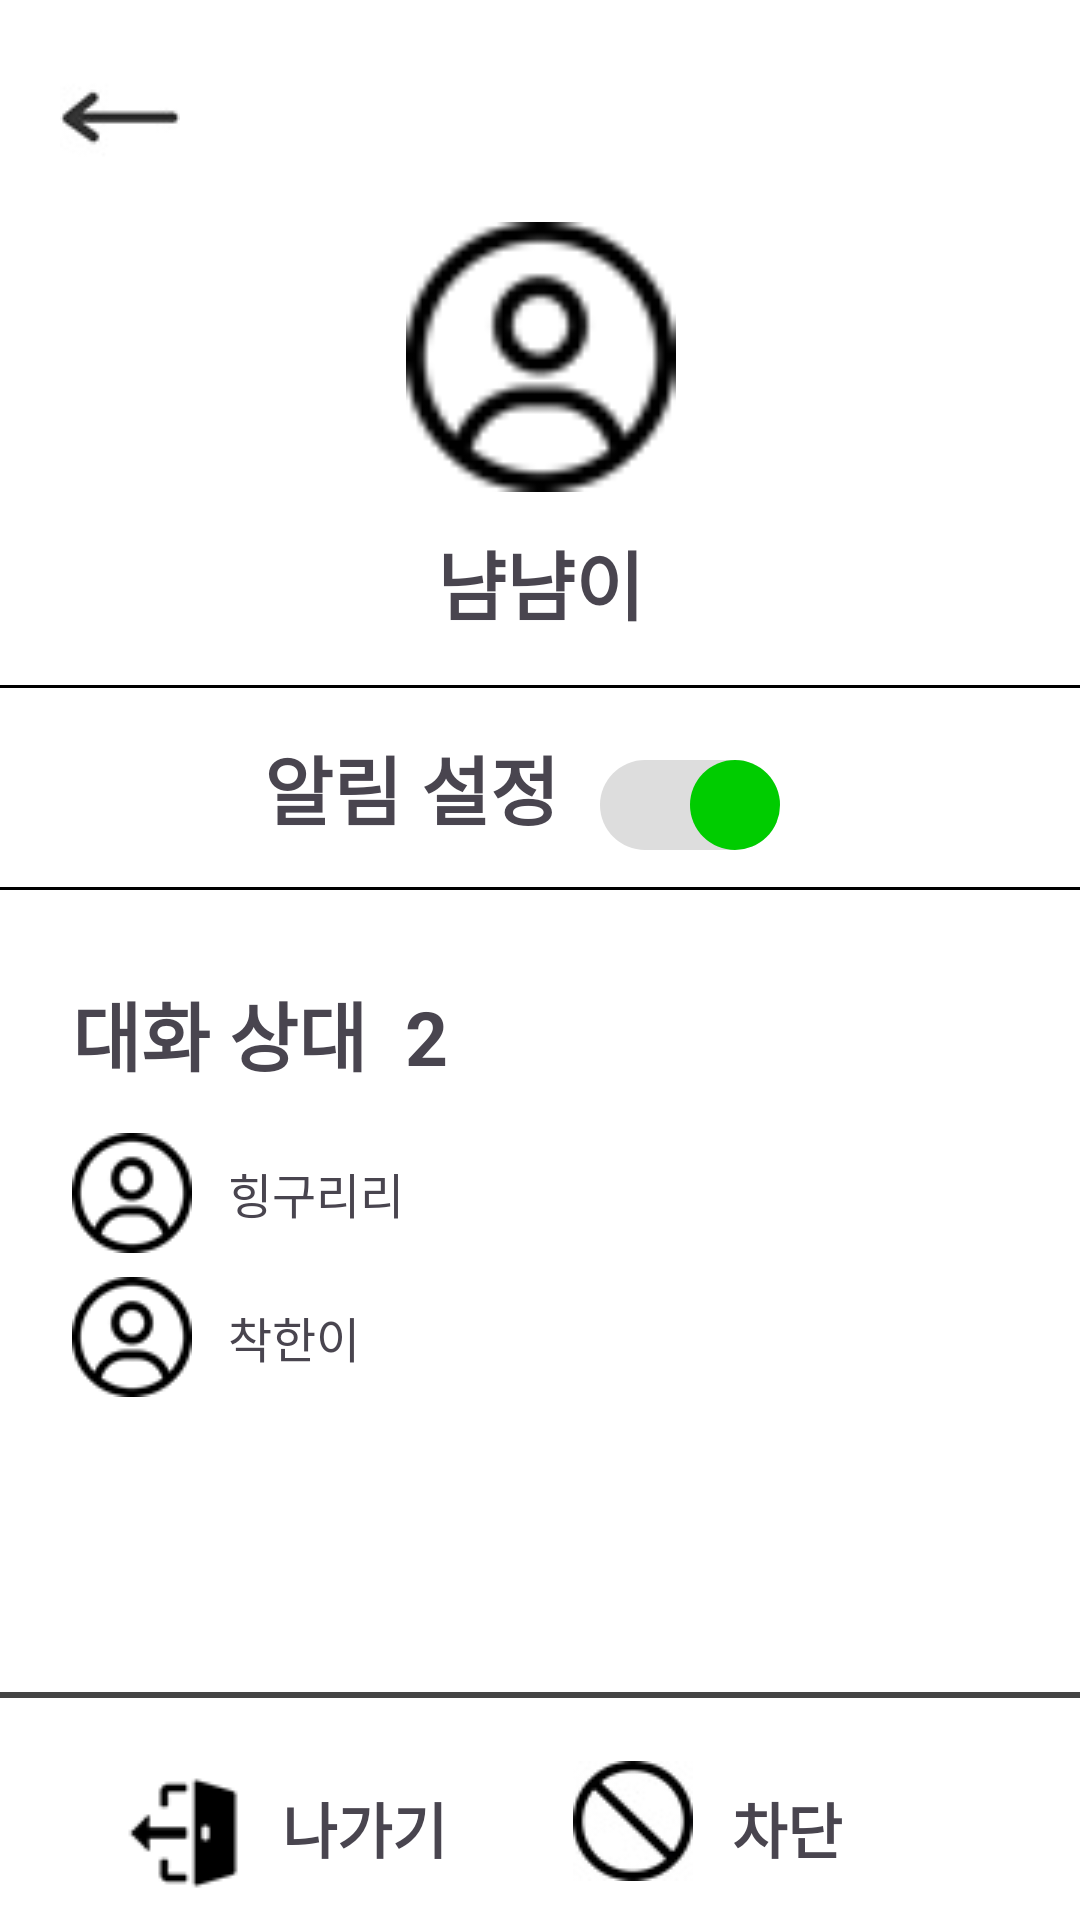

Where icons sit on this 1080 x 1920 app screen, as {"left": x1, "top": y1, "right": x2, "bottom": y2}:
Back: {"left": 62, "top": 92, "right": 180, "bottom": 144}
user infomation: {"left": 406, "top": 222, "right": 676, "bottom": 492}, {"left": 72, "top": 1133, "right": 192, "bottom": 1253}, {"left": 72, "top": 1277, "right": 192, "bottom": 1397}
